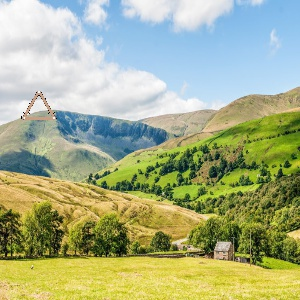triangle: (19, 87, 58, 123)
